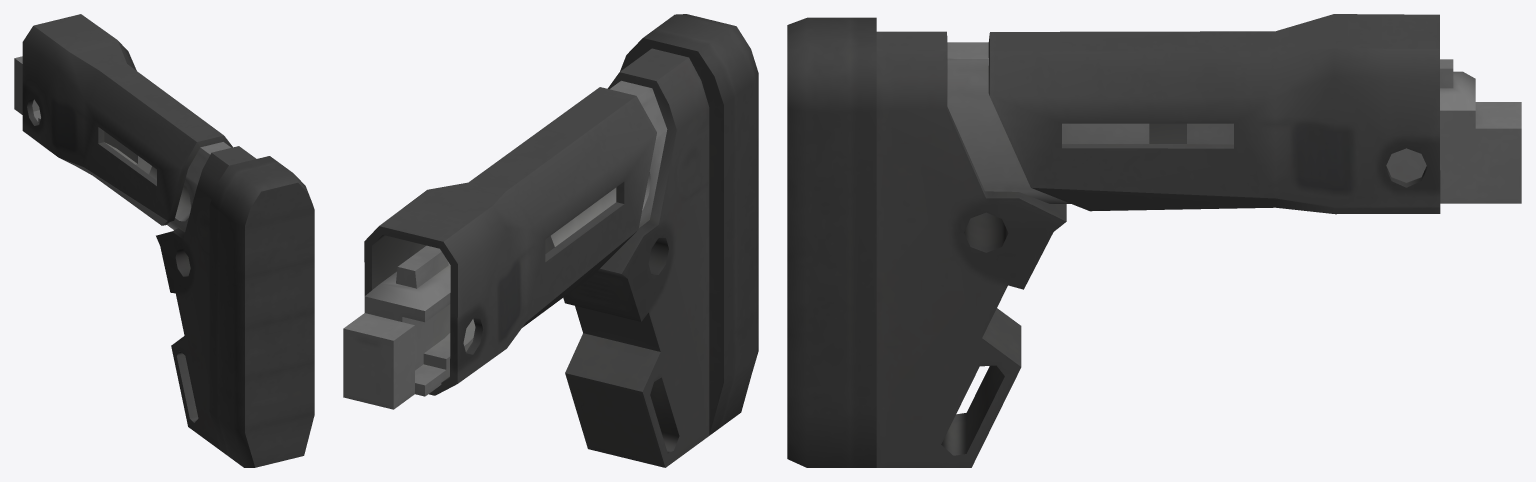
Rendered from IG_Acc_Stock_ALL_SCA_5.fbx.
3 views of the same model, side by side, from view 1: azimuth 30°, elevation 25°; view 2: azimuth 150°, elevation 25°; view 3: azimuth 270°, elevation 25° (orthographic). The views are drawn at different scales.
Visible parts, largest first — view 1: Stock_ALL_SCA_5; view 2: Stock_ALL_SCA_5; view 3: Stock_ALL_SCA_5.
Part boxes in pixels (x1,y1,x2,y2): Stock_ALL_SCA_5: (14, 14, 314, 467); Stock_ALL_SCA_5: (343, 14, 758, 467); Stock_ALL_SCA_5: (787, 14, 1521, 467).
Size of the model in its own units: 0.0622 by 0.2128 by 0.3406.
Materials: 1 (1 with a texture image).
